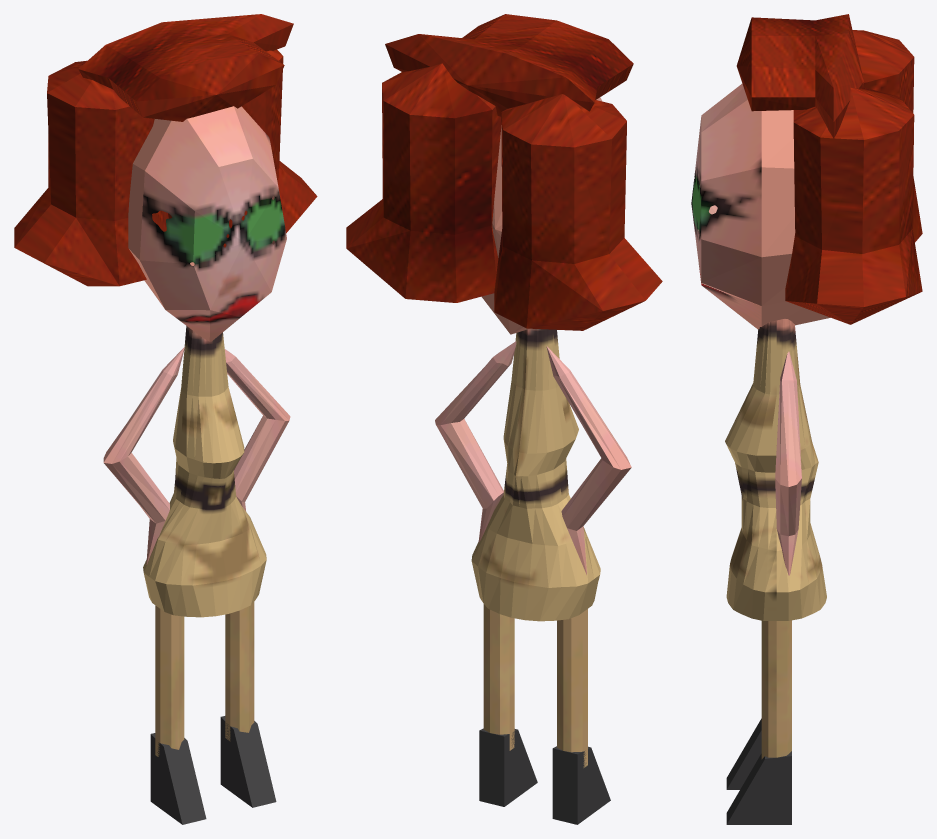
File: Dude3.glb
3 views of the same model, side by side, from view 1: azimuth 30°, elevation 25°; view 2: azimuth 150°, elevation 25°; view 3: azimuth 270°, elevation 25° (orthographic). The views are drawn at different scales.
Parts seen in each view (by area): view 1: Dude3; view 2: Dude3; view 3: Dude3.
Boxes of the visible parts, x1=… form: Dude3: x1=14, y1=14, x2=317, y2=824; Dude3: x1=346, y1=14, x2=662, y2=824; Dude3: x1=691, y1=14, x2=922, y2=824.
Bounding box in the file's own units: 451 × 1124 × 308.
1 material, 1 textured.
